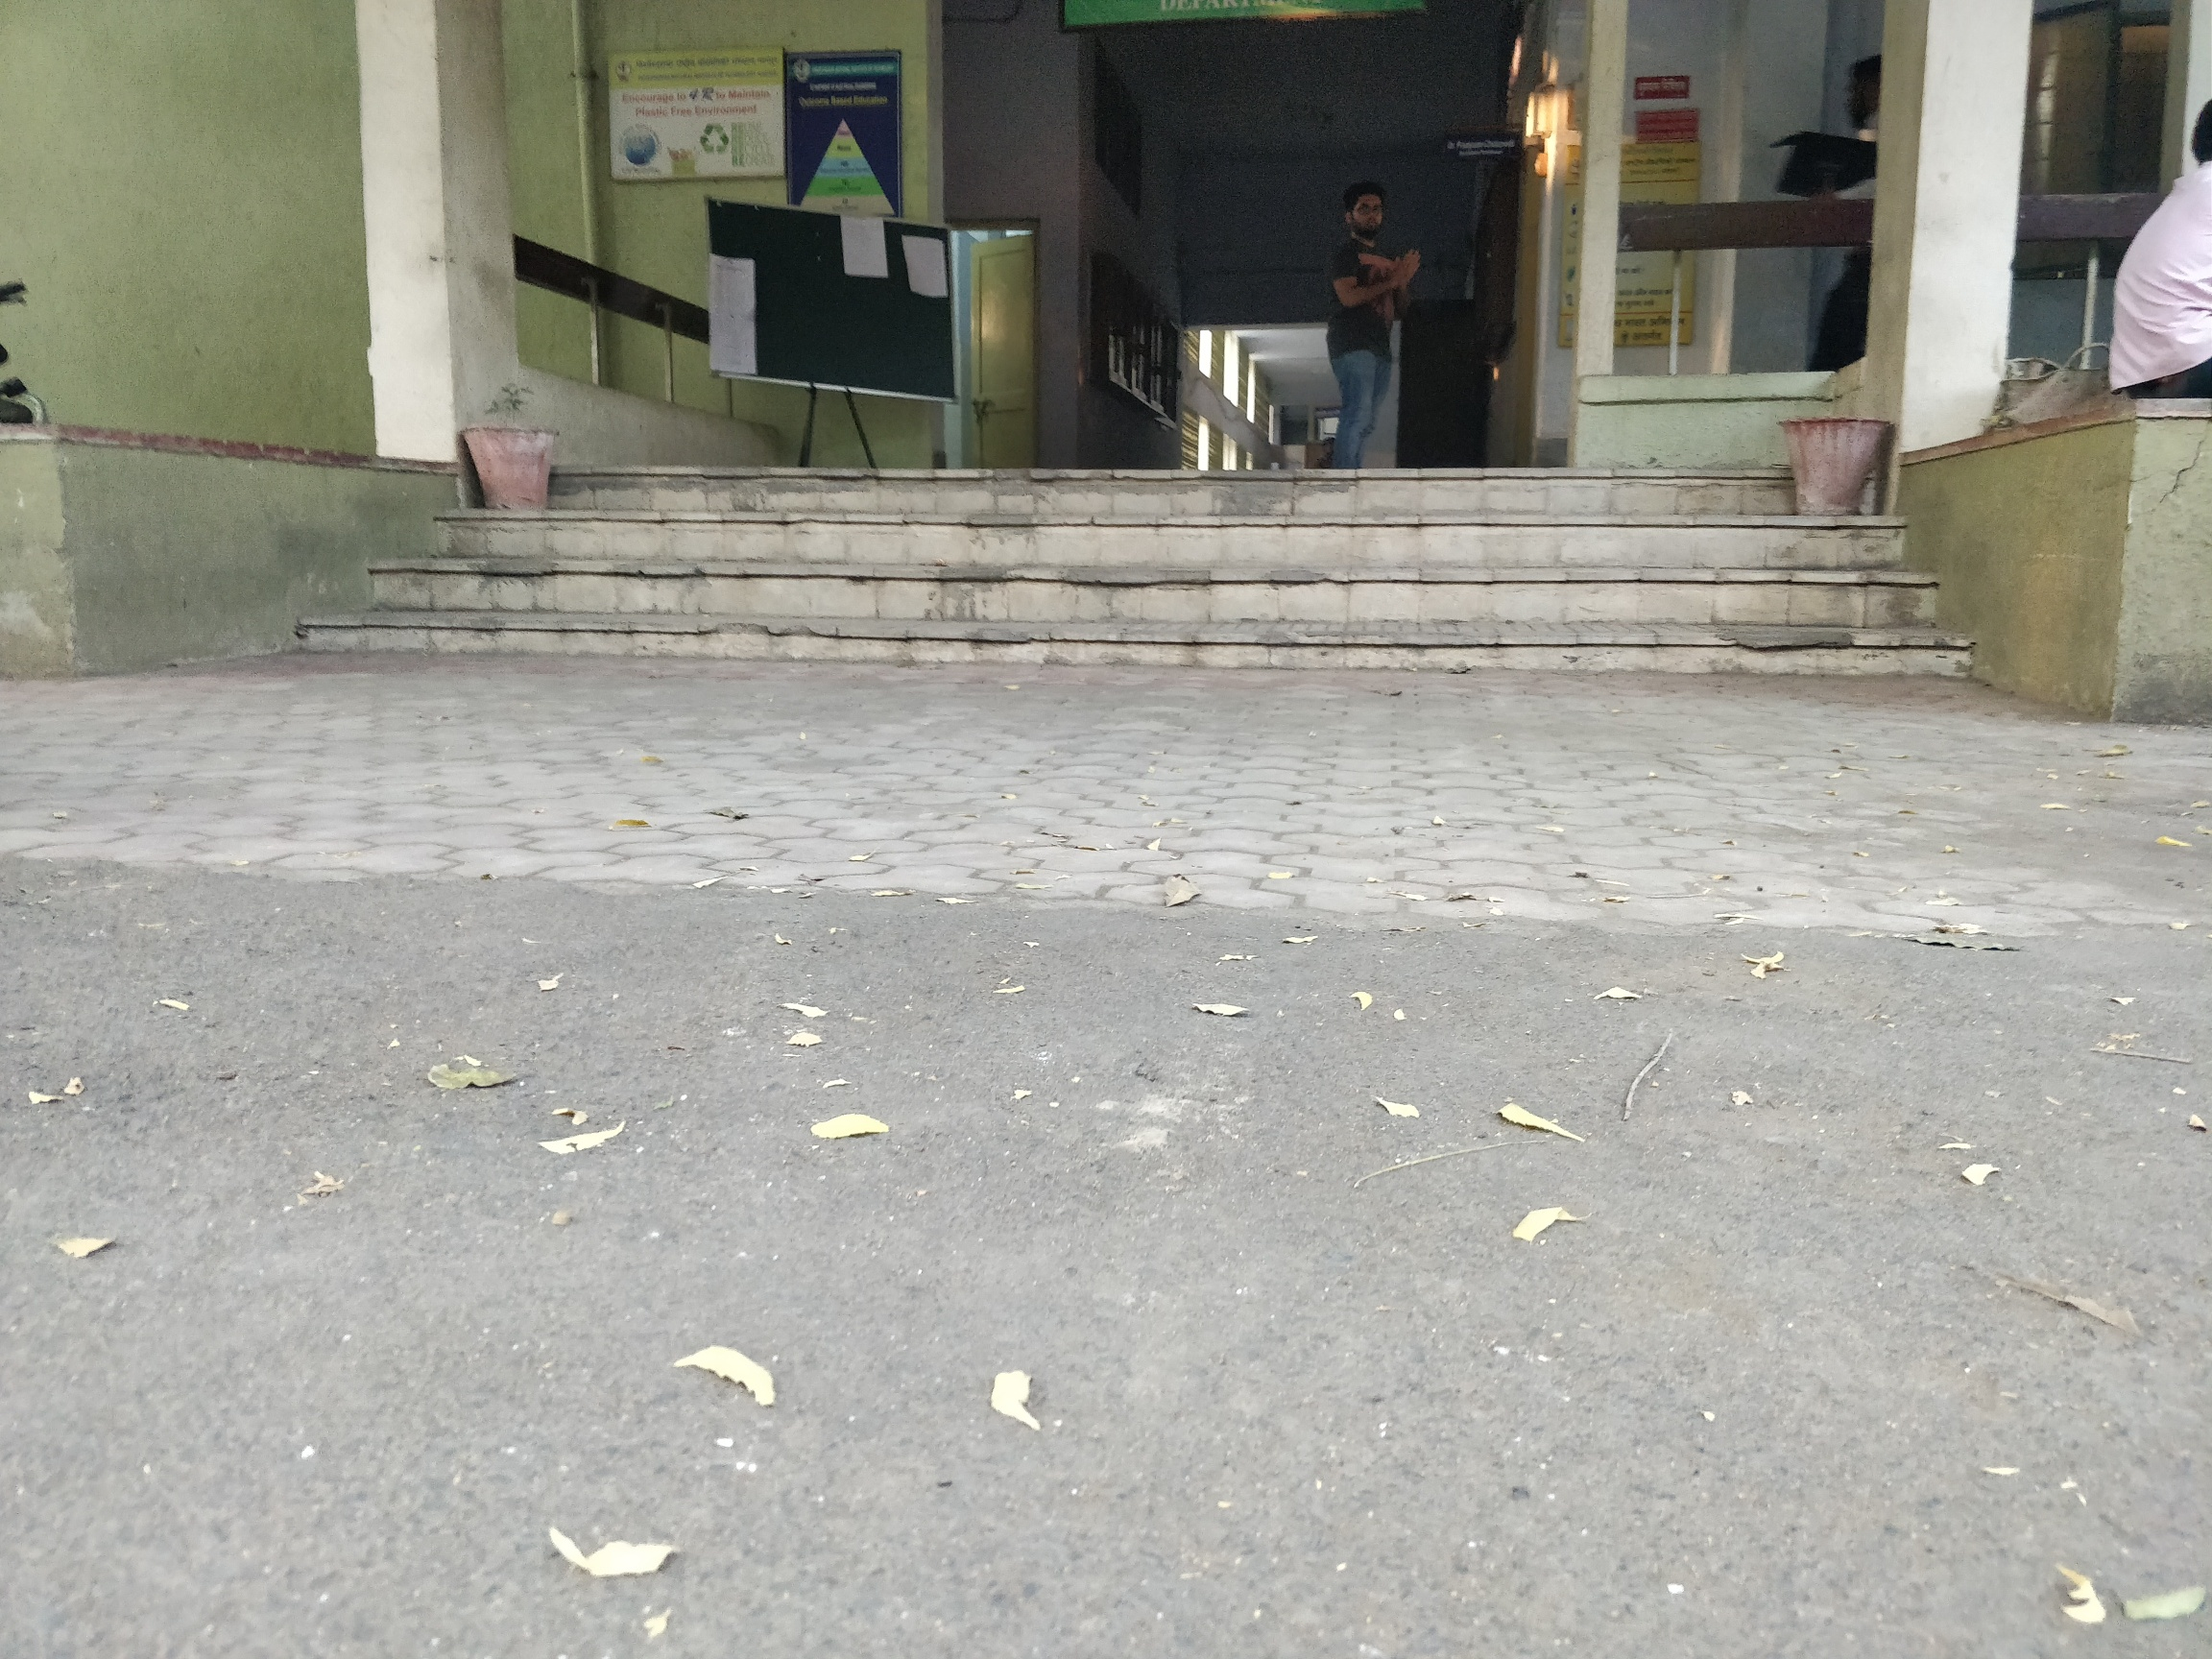stairs_up: (320, 443, 1900, 671)
